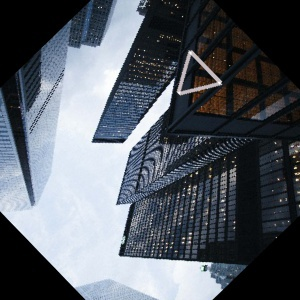triangle: (174, 42, 225, 95)
